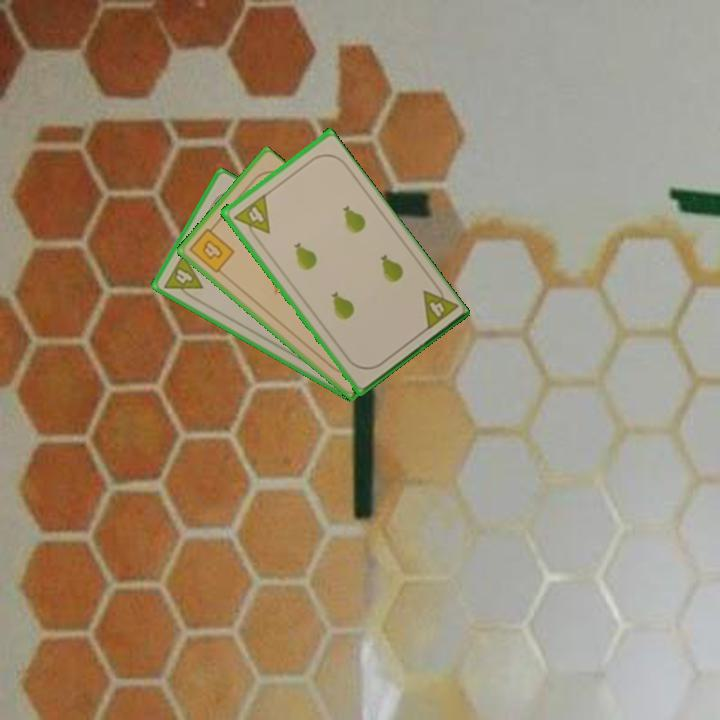4b: (185, 221, 238, 276)
4p: (160, 250, 206, 303), (229, 191, 273, 243), (419, 279, 460, 333)
